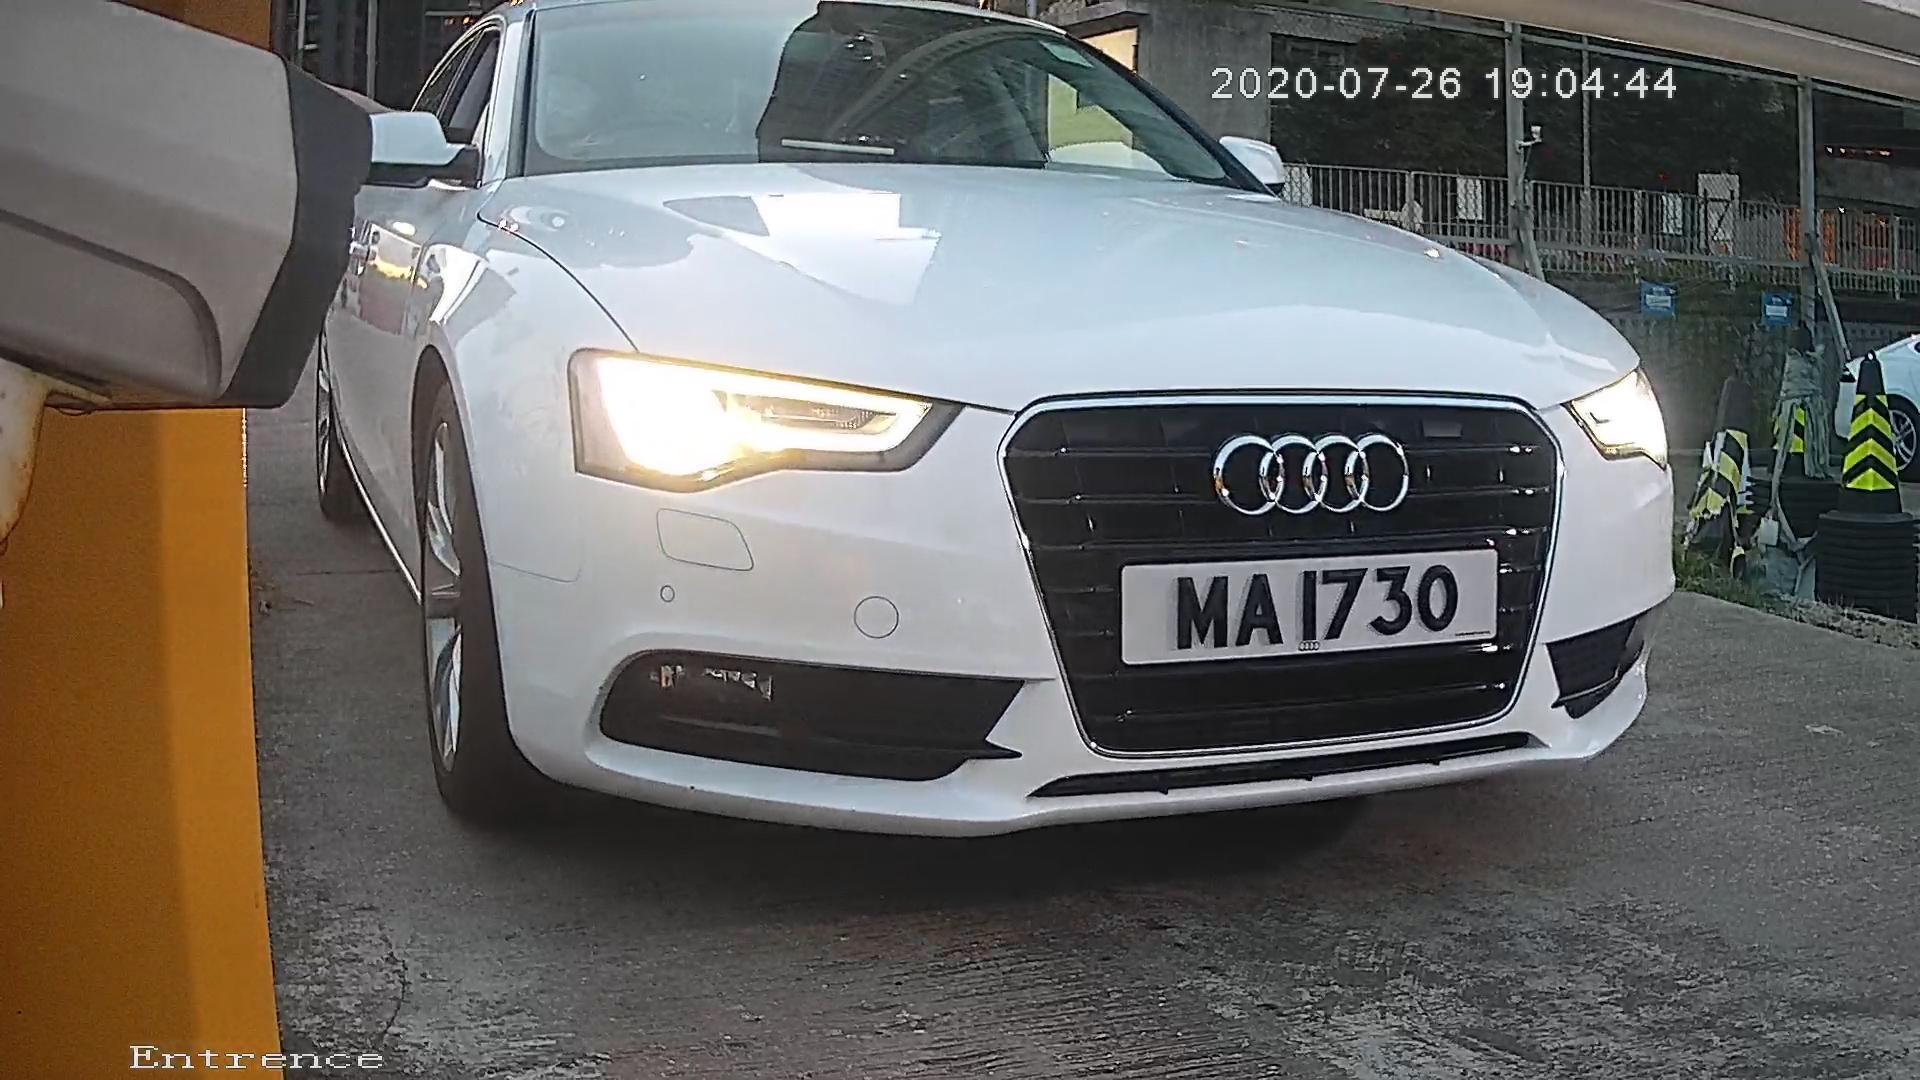Car: (275, 63, 1766, 868)
License Plate: (1089, 536, 1518, 680)
